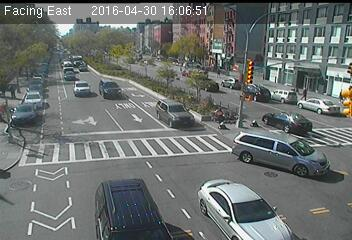neg: (92, 137, 132, 190), (249, 144, 277, 181), (234, 49, 260, 83), (22, 88, 47, 122), (323, 83, 345, 112), (106, 78, 127, 106), (23, 35, 43, 62), (170, 145, 189, 171), (179, 78, 198, 103), (58, 51, 74, 73), (116, 39, 132, 60), (187, 36, 202, 56)
pos: (297, 85, 308, 100), (3, 84, 14, 98)
